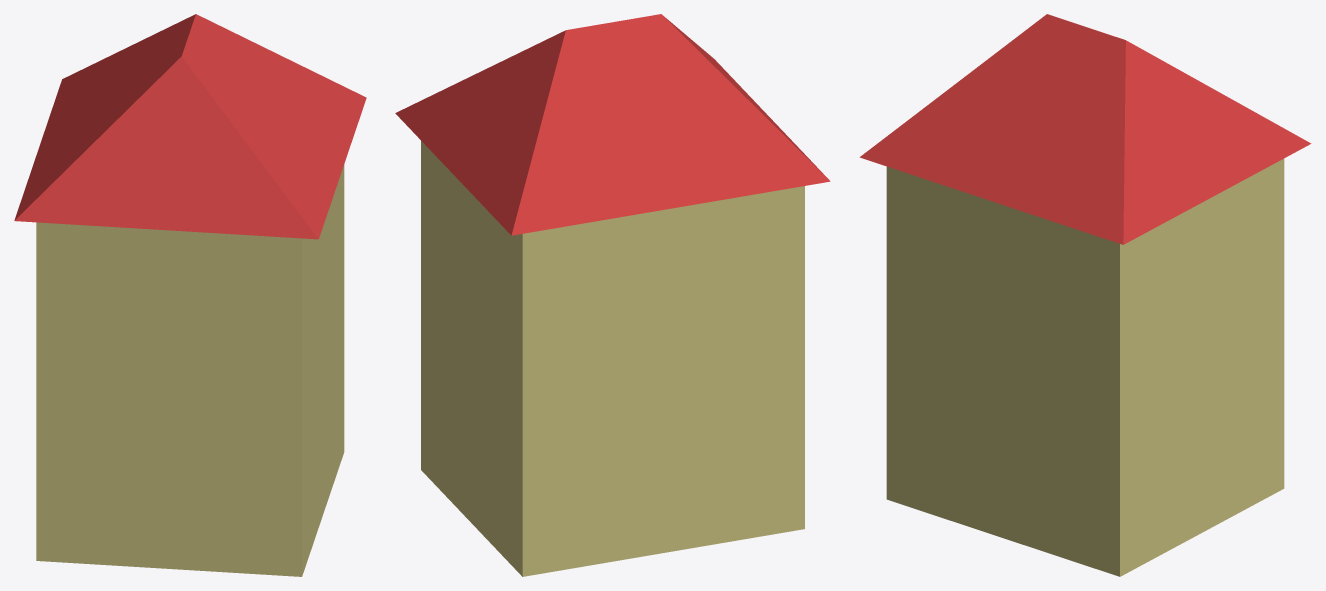
3 renders of one model, left to right at view 1: azimuth 30°, elevation 25°; view 2: azimuth 150°, elevation 25°; view 3: azimuth 270°, elevation 25°, orthographic. The views are drawn at different scales.
Visible parts, largest first — view 1: group_5, group_3, group_4; view 2: group_5, group_3, group_4; view 3: group_5, group_3, group_4.
Part boxes in pixels (x1,y1,x2,y2): group_5: (36, 165, 344, 576); group_3: (14, 14, 366, 239); group_4: (14, 69, 318, 238); group_5: (421, 141, 804, 576); group_3: (396, 14, 828, 234); group_4: (395, 99, 830, 235); group_5: (886, 158, 1284, 576); group_3: (860, 14, 1308, 244); group_4: (860, 126, 1311, 243).
Bounding box in the file's own units: 17.18 × 17.38 × 19.78.
